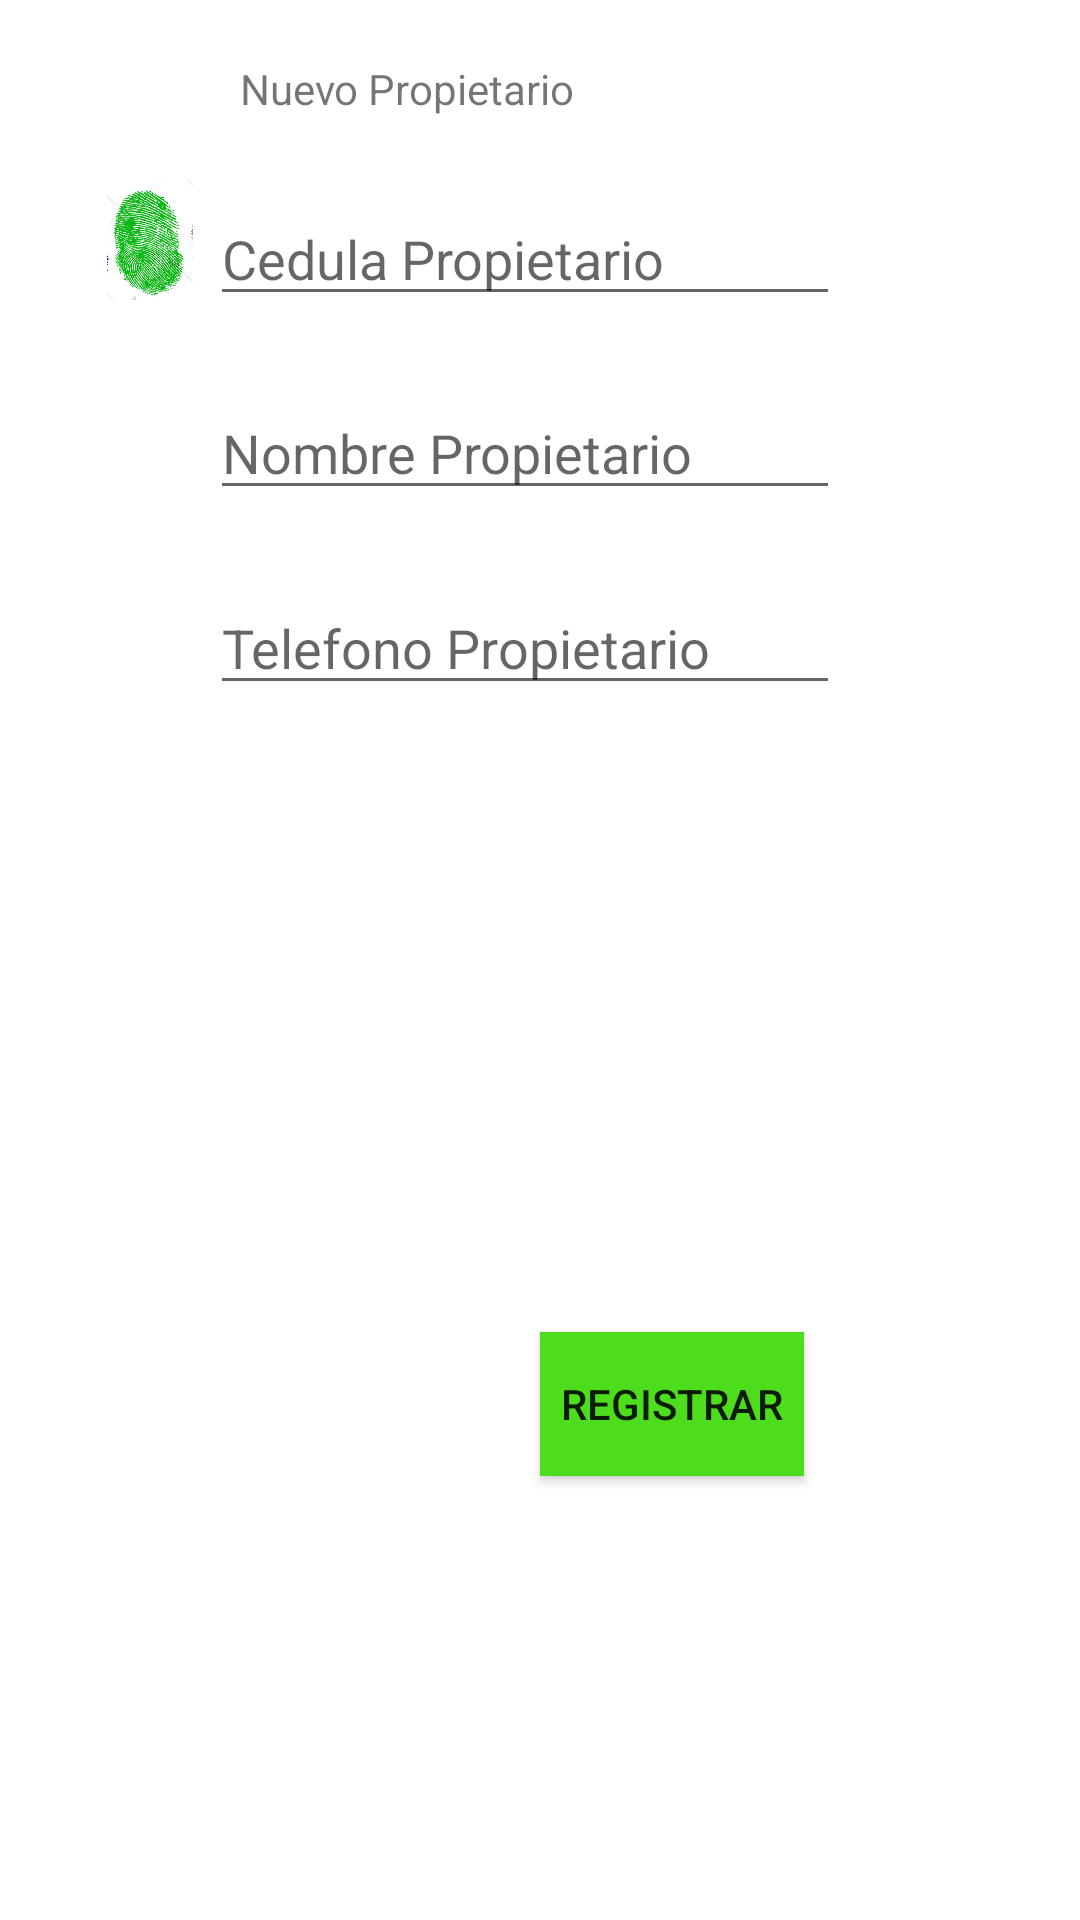

Locate icon controls on the screen. Image size 1080px×1920px, boxes as (x1,y1,x2,y2).
huellla: (107,180,193,300)
